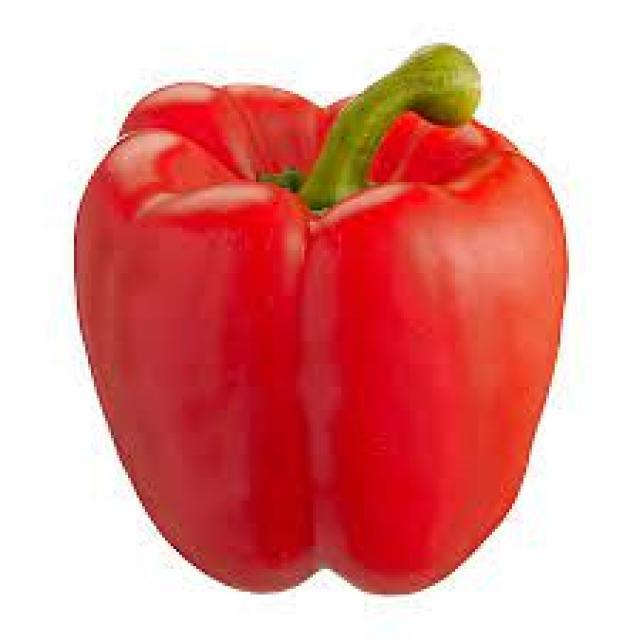Pepper: (72, 44, 570, 599)
